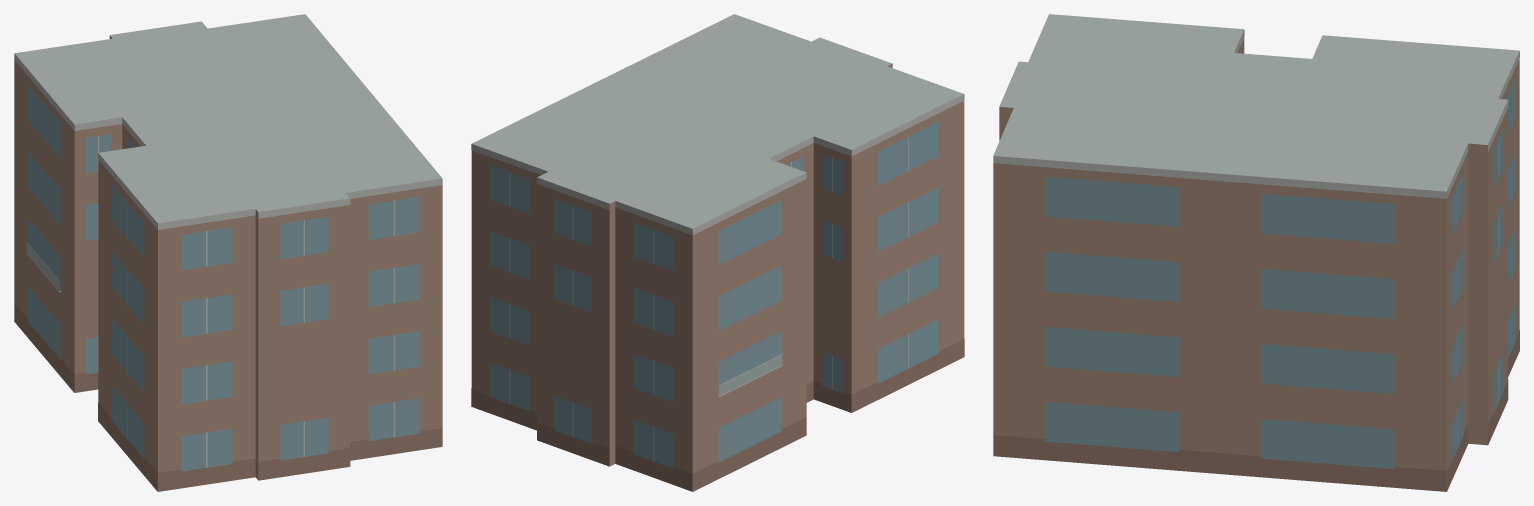
File: survey-upis-32675570.glb
The picture shows the model from 3 angles, left to right: view 1: azimuth 30°, elevation 25°; view 2: azimuth 150°, elevation 25°; view 3: azimuth 270°, elevation 25°; orthographic projection. The views are drawn at different scales.
Parts seen in each view (by area): view 1: survey-upis-32675570.tmp; view 2: survey-upis-32675570.tmp; view 3: survey-upis-32675570.tmp.
Boxes of the visible parts, left/top/right/bottom form: survey-upis-32675570.tmp: left=14, top=14, right=442, bottom=491; survey-upis-32675570.tmp: left=471, top=14, right=964, bottom=491; survey-upis-32675570.tmp: left=993, top=14, right=1519, bottom=491.
Size of the model in its own units: 12.7 by 10 by 15.91.
